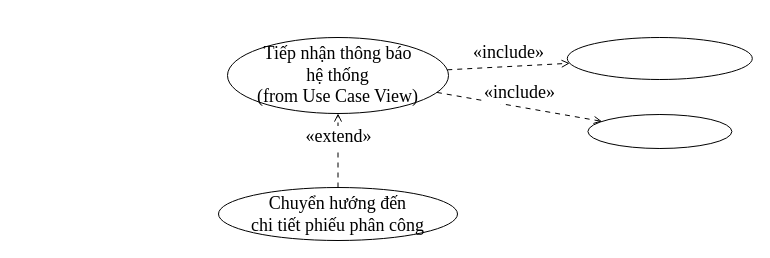
The diagram is 770 pixels wide and 258 high, and some of its shapes have lost their labels. Each missing label, with the centre of its shape:
"Đánh dấu đã đọc" belongs at (x=659, y=131).
"Đọc nội dung thông báo" belongs at (x=659, y=58).
